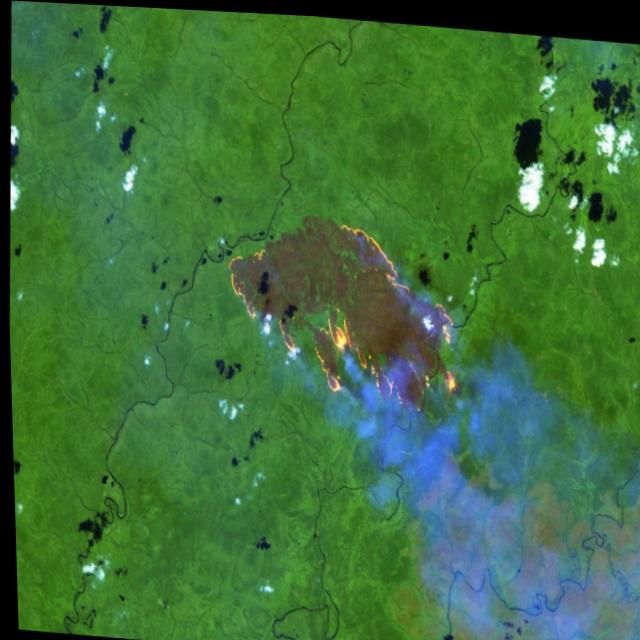fire: (218, 205, 462, 418)
